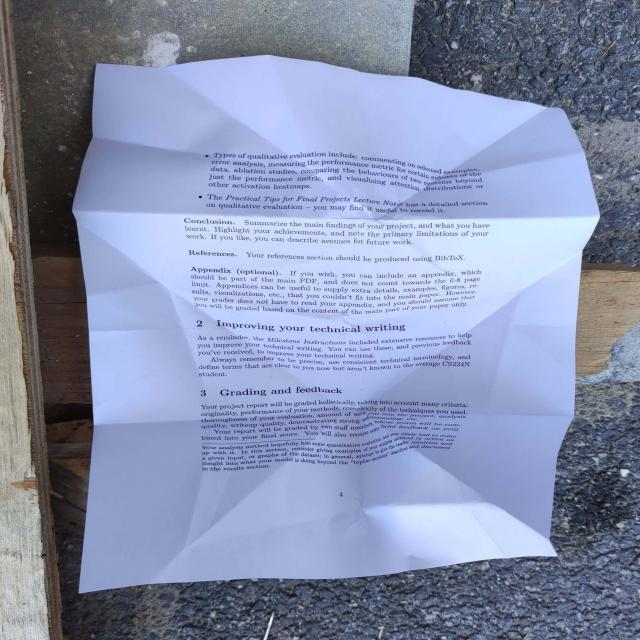document: (74, 56, 599, 591)
